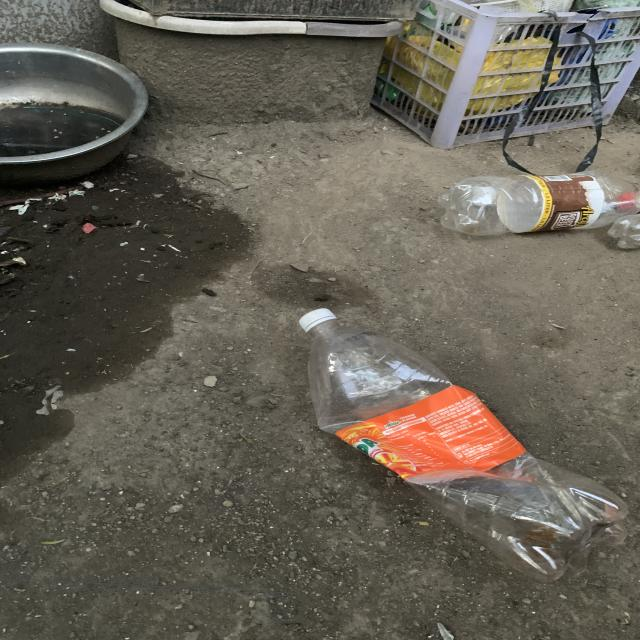Bottle: (299, 308, 628, 579)
